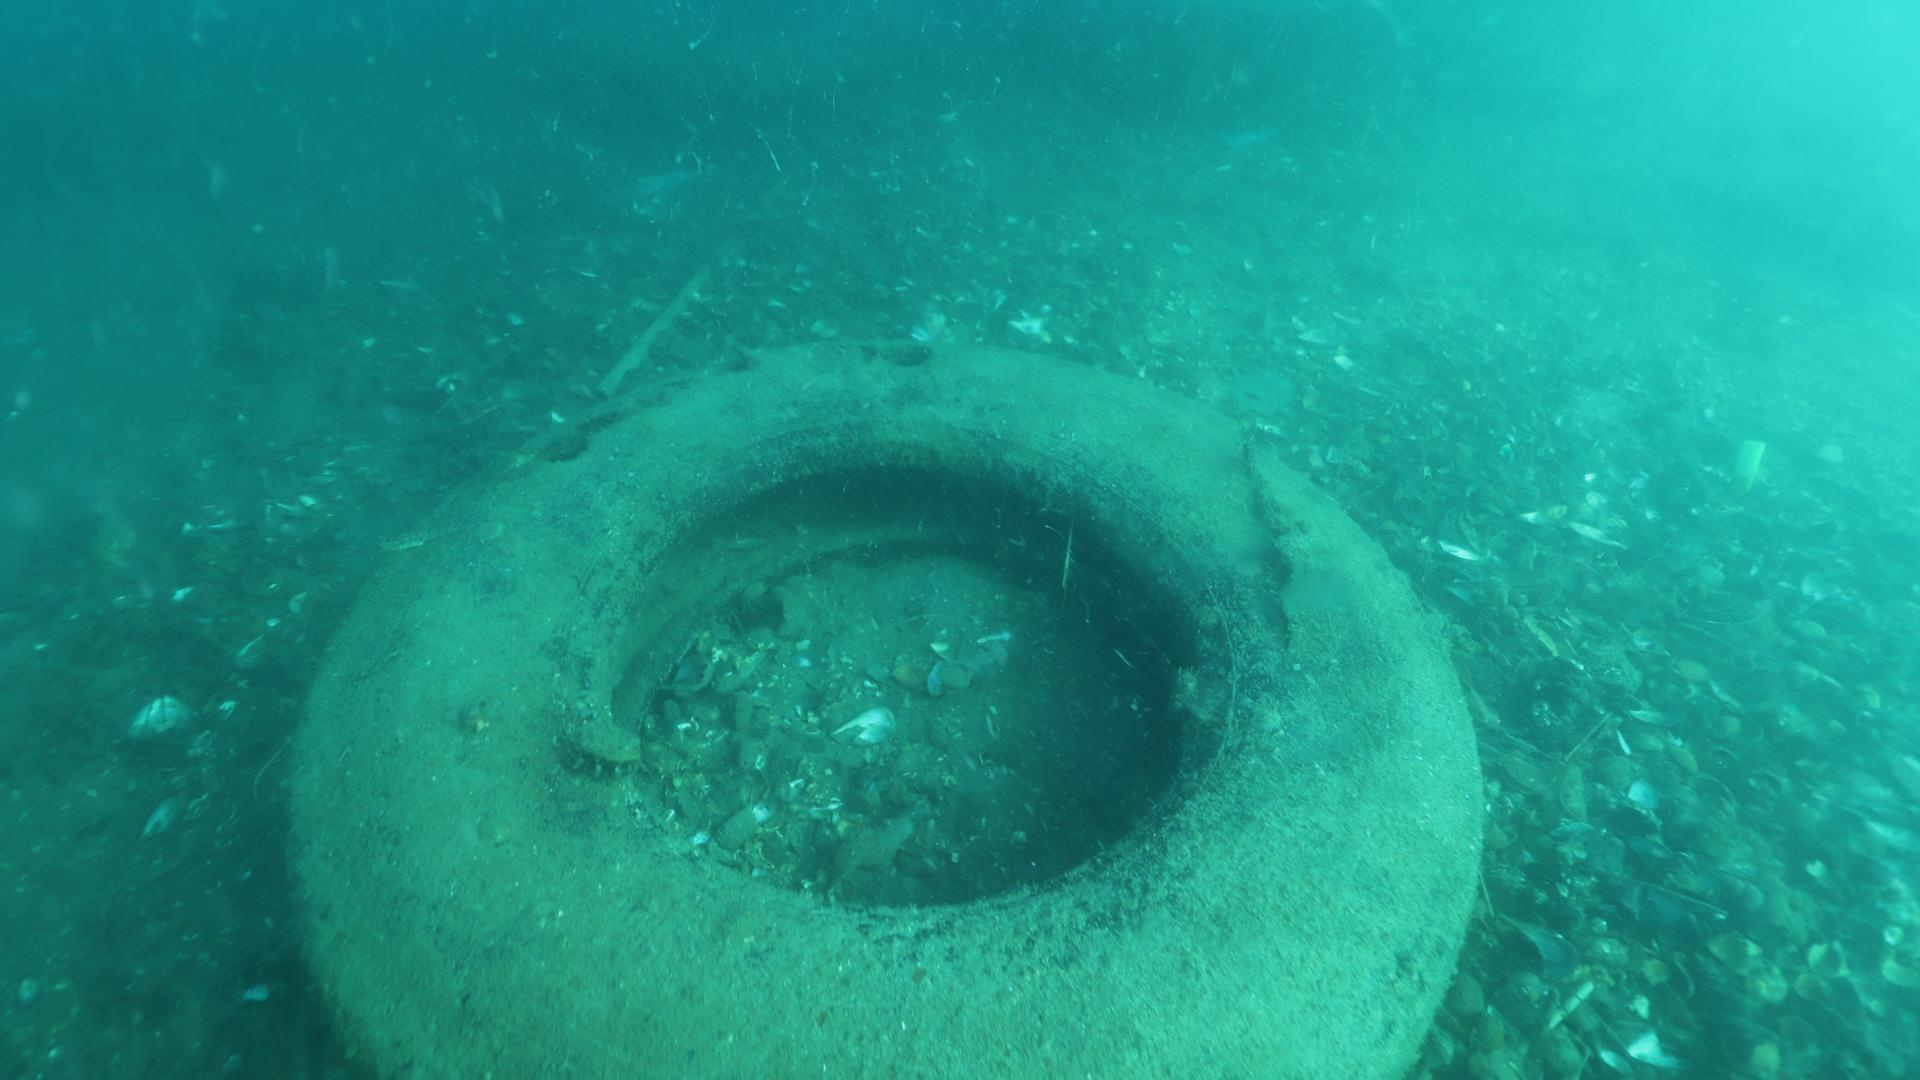tire: (276, 332, 1485, 1079)
